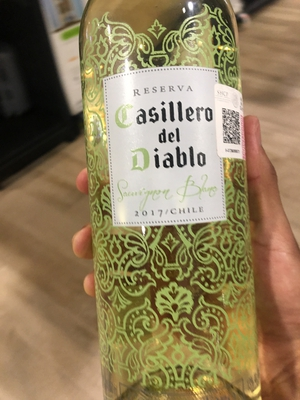casillero del diablo sauvignon blanc: (78, 2, 266, 400)
